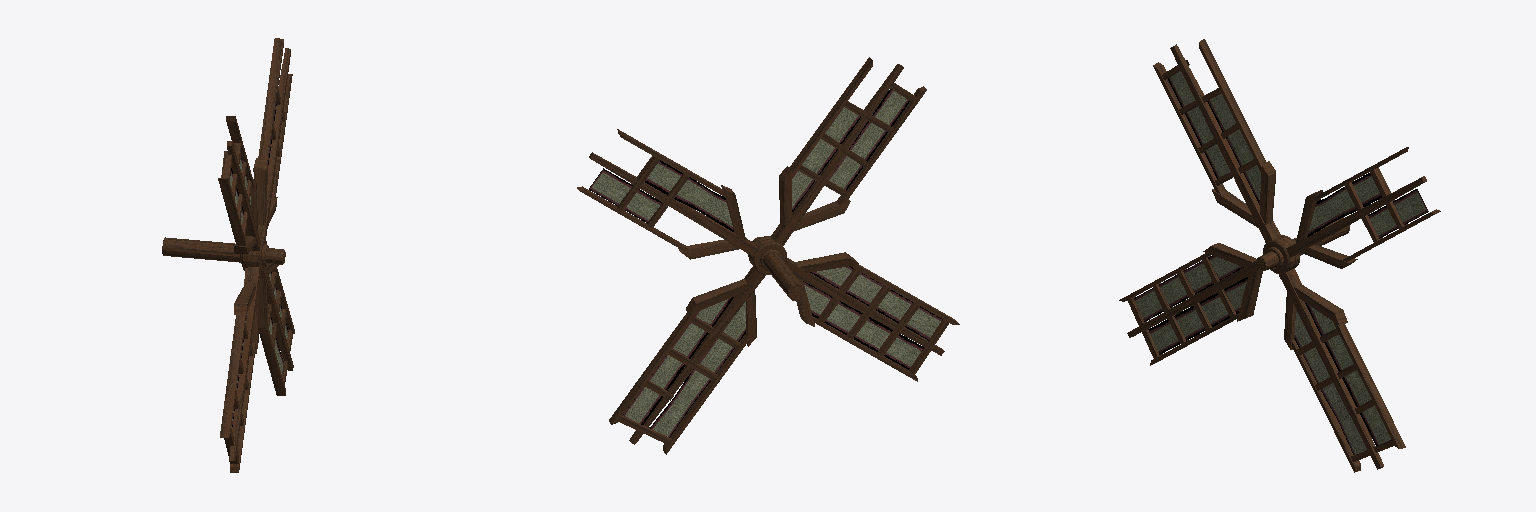
3 renders of one model, left to right at view 1: azimuth 30°, elevation 25°; view 2: azimuth 150°, elevation 25°; view 3: azimuth 270°, elevation 25°, orthographic.
Visible parts, largest first — view 1: polySurface814_Mesh.351; view 2: polySurface814_Mesh.351; view 3: polySurface814_Mesh.351.
Part boxes in pixels (x1,y1,x2,y2): polySurface814_Mesh.351: (162,38,294,472); polySurface814_Mesh.351: (577,57,959,454); polySurface814_Mesh.351: (1119,39,1440,472).
Bounding box in the file's own units: 1.57 × 2.43 × 1.92.
1 materials, 1 textured.